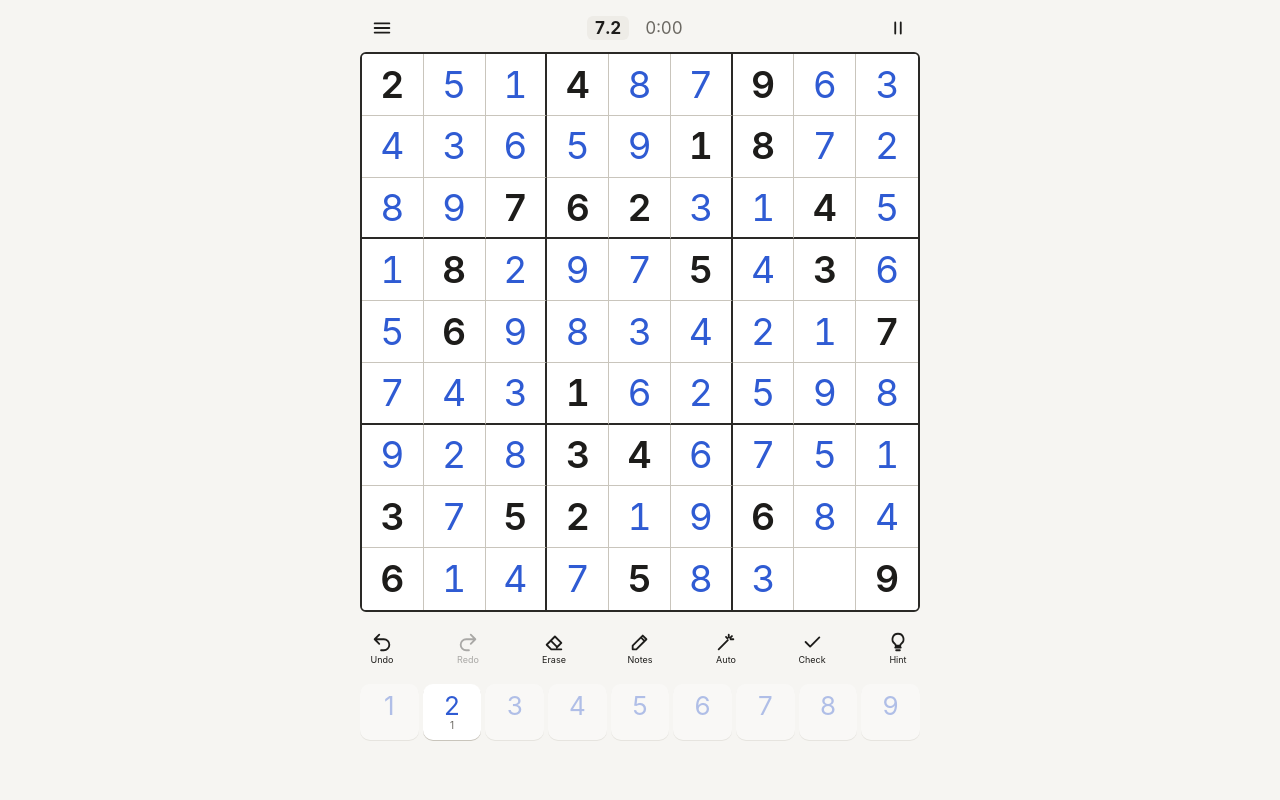
it: app › shows the win screen and records the solve
The width and height of the screenshot is (1280, 800).
Click the button named "r9c8".
click(825, 579)  # box x1=794 y1=548 x2=856 y2=610
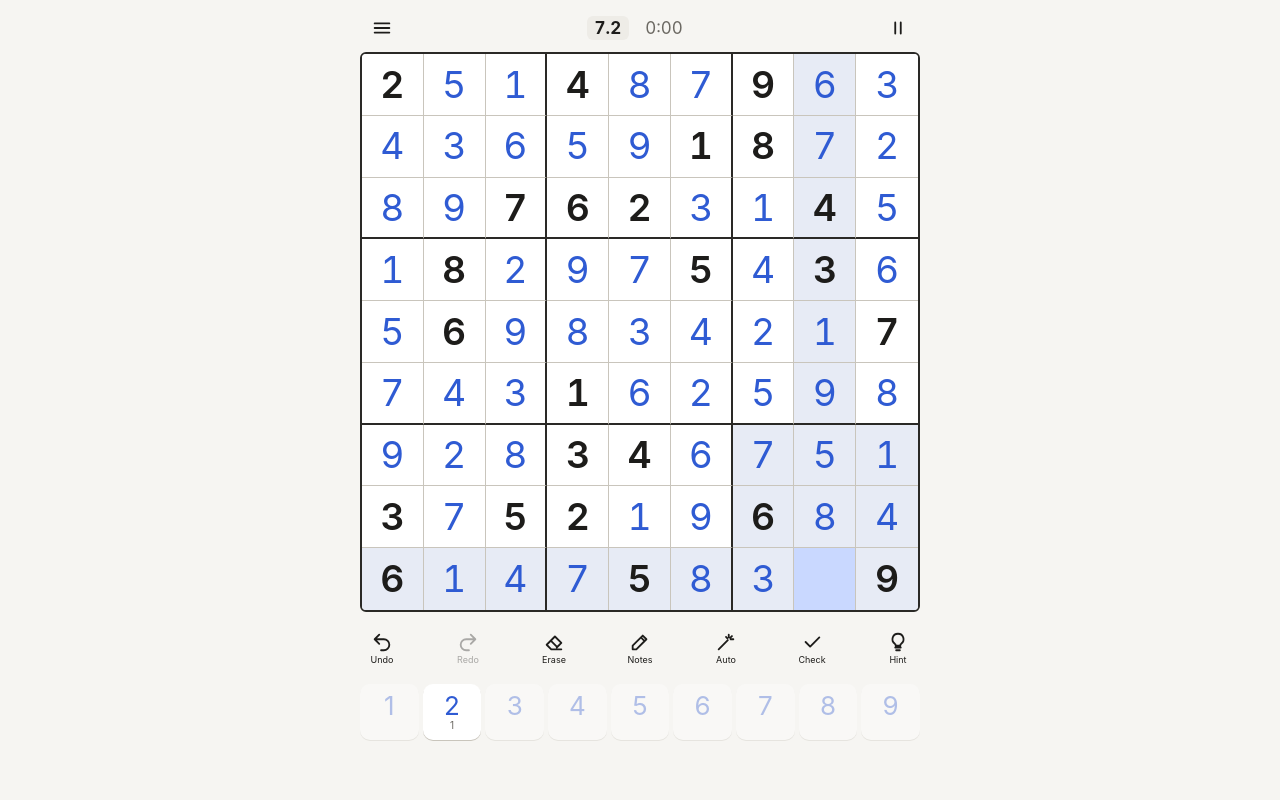
Click the button "2 1".
click(452, 712)  # box x1=423 y1=684 x2=481 y2=740
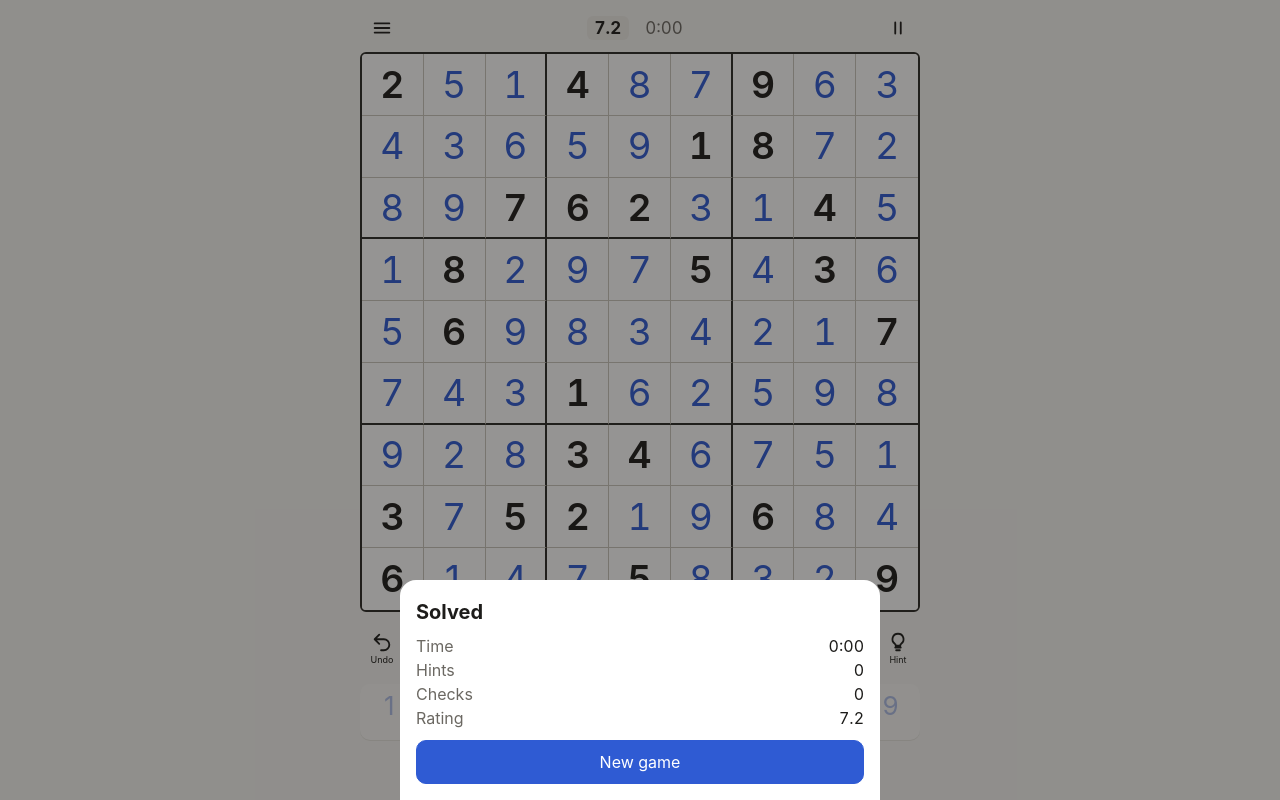
Expected: the dialog "Solved" is shown
